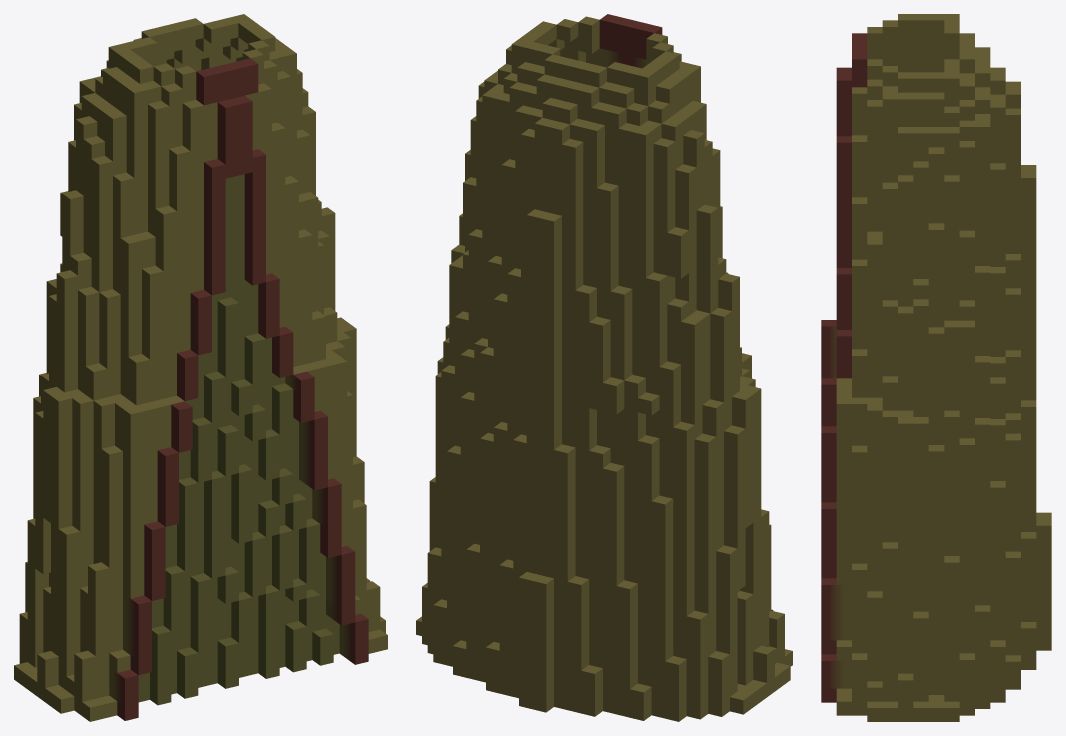
The model's file is NB_TR_F_DressSkirtFull_Outer_00.fbx.
3 views of the same model, side by side, from view 1: azimuth 30°, elevation 25°; view 2: azimuth 150°, elevation 25°; view 3: azimuth 270°, elevation 25° (orthographic). The views are drawn at different scales.
Parts seen in each view (by area): view 1: DressSkirtFull_Outer_00; view 2: DressSkirtFull_Outer_00; view 3: DressSkirtFull_Outer_00.
Part boxes in pixels (<box>): DressSkirtFull_Outer_00: <box>14,14,387,721</box>; DressSkirtFull_Outer_00: <box>416,14,792,721</box>; DressSkirtFull_Outer_00: <box>821,14,1051,721</box>.
Bounding box in the file's own units: 24 × 43 × 15.
Materials: 1 (1 with a texture image).
